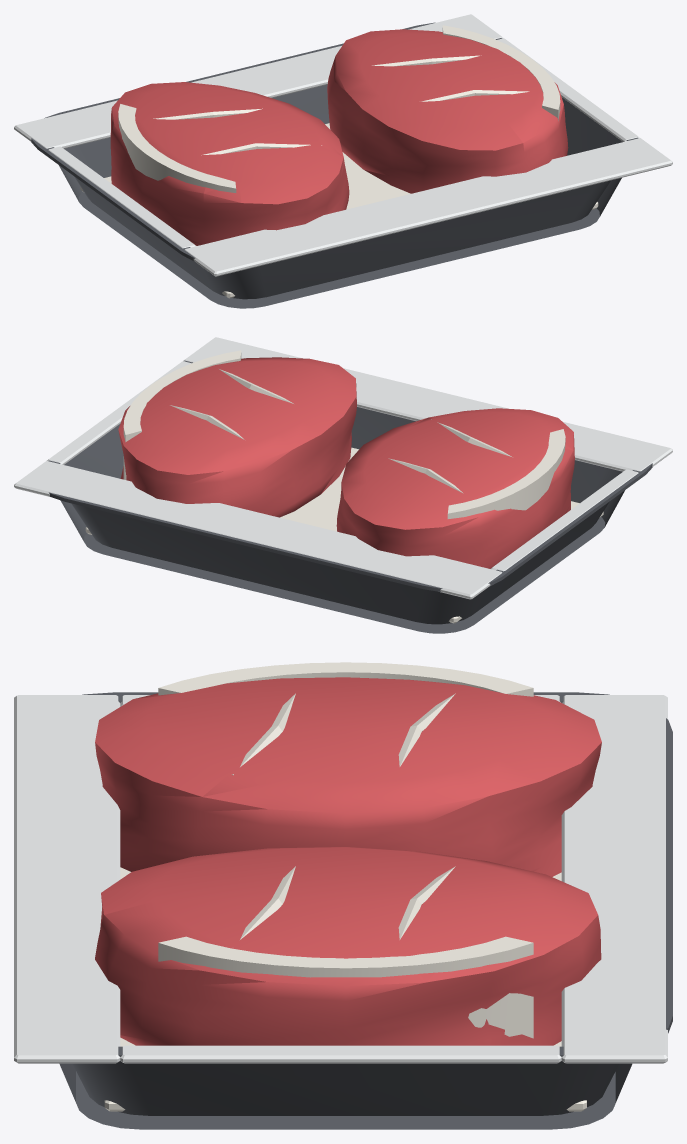
The model's file is fresh-produce-and-groceries-steak-tray-3ef5824e__24402.glb.
The picture shows the model from 3 angles, top to bottom: view 1: azimuth 30°, elevation 25°; view 2: azimuth 150°, elevation 25°; view 3: azimuth 270°, elevation 25°; orthographic projection. The views are drawn at different scales.
Parts seen in each view (by area): view 1: steak-tray; view 2: steak-tray; view 3: steak-tray.
Part boxes in pixels (x1,y1,x2,y2): steak-tray: (14,14,672,308); steak-tray: (14,337,672,633); steak-tray: (14,662,672,1129).
Bounding box in the file's own units: 0.2112 × 0.0457 × 0.1612.
